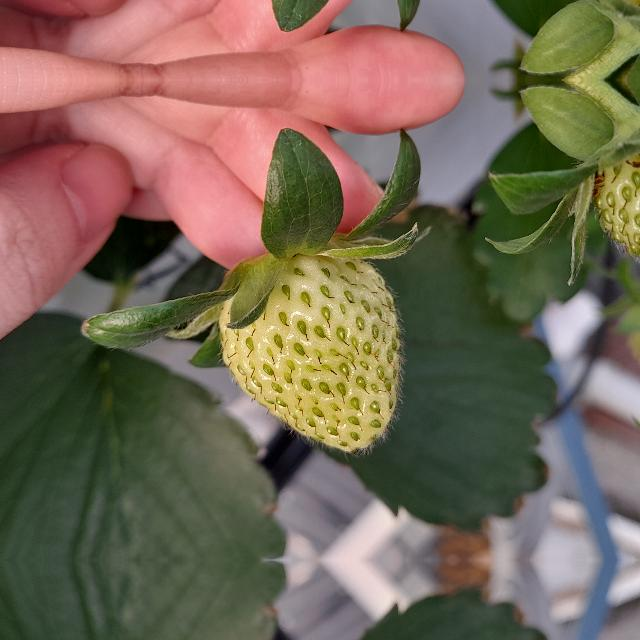Health_25: (216, 252, 407, 456)
